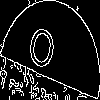O: (25, 25, 58, 80)
